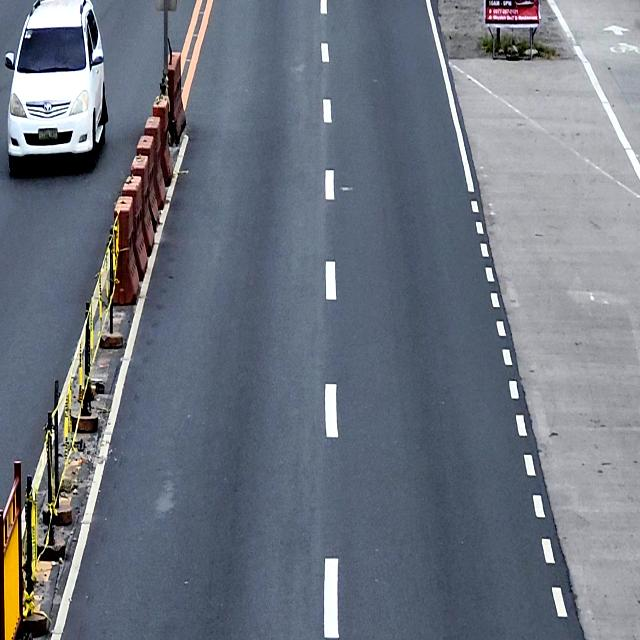Car: (5, 0, 109, 172)
License-Plate: (37, 128, 58, 141)
